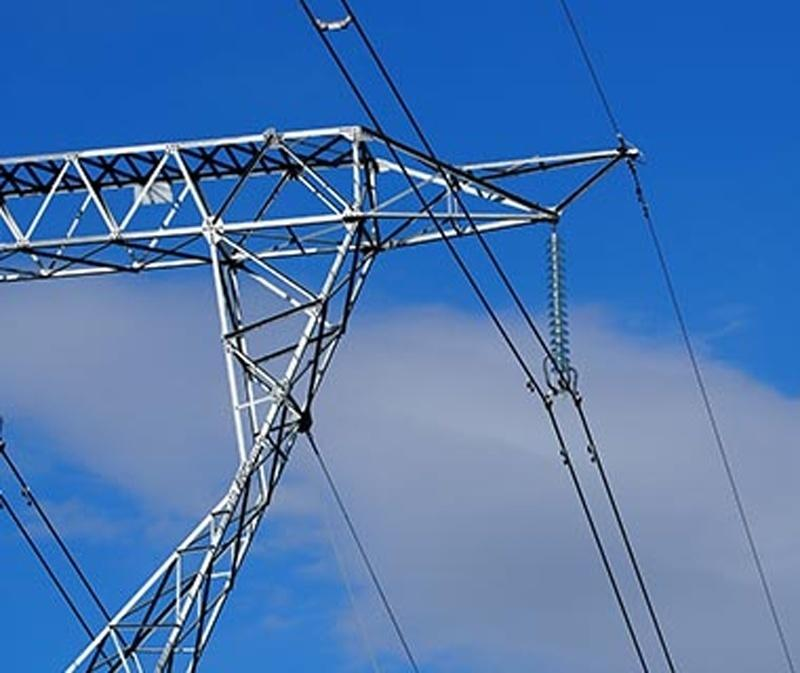power_tower: (4, 131, 647, 670)
